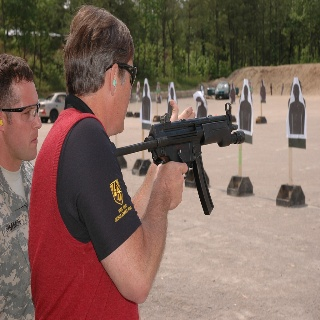rifle: (112, 101, 245, 217)
